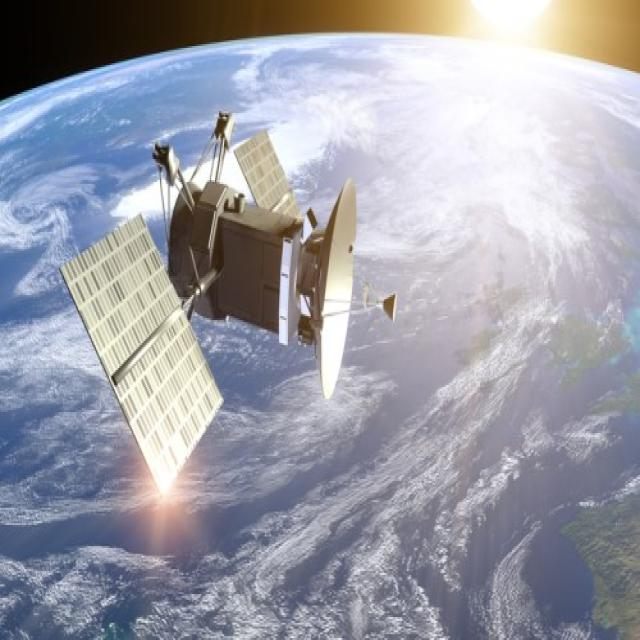satellite: (61, 112, 356, 491)
